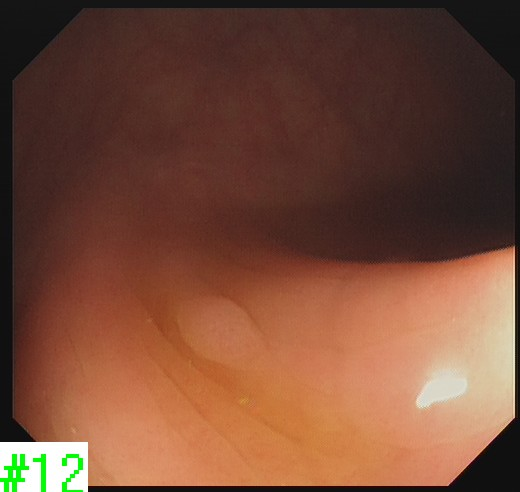others: (173, 288, 272, 373)
